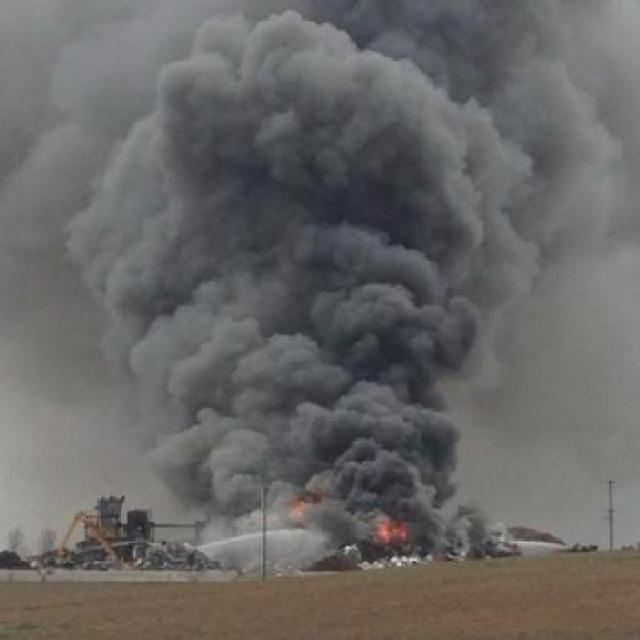Fire: (363, 508, 405, 547)
